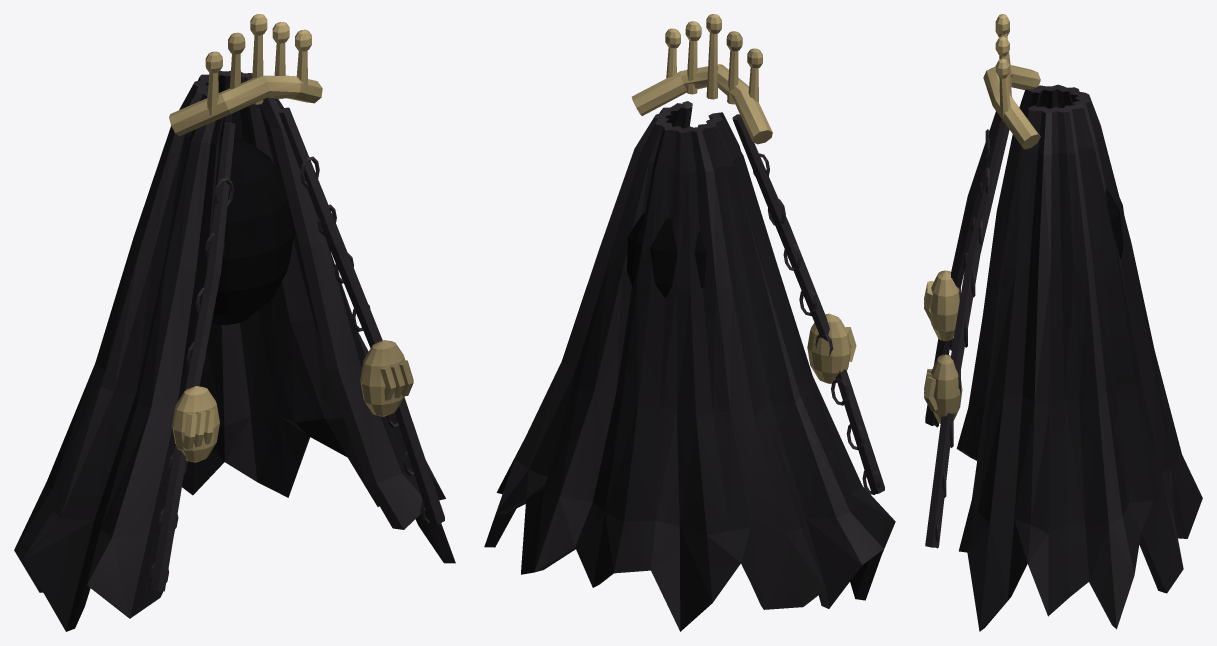
Rendered from veil_mourner.fbx.
The picture shows the model from 3 angles, left to right: view 1: azimuth 30°, elevation 25°; view 2: azimuth 150°, elevation 25°; view 3: azimuth 270°, elevation 25°; orthographic projection. The views are drawn at different scales.
Parts seen in each view (by area): view 1: veil_mourner; view 2: veil_mourner; view 3: veil_mourner.
Boxes of the visible parts, x1,y1,x2,y2 form: veil_mourner: (14,14,455,631); veil_mourner: (484,14,895,631); veil_mourner: (924,14,1202,631).
Bounding box in the file's own units: 2.65 × 3.53 × 1.66.
